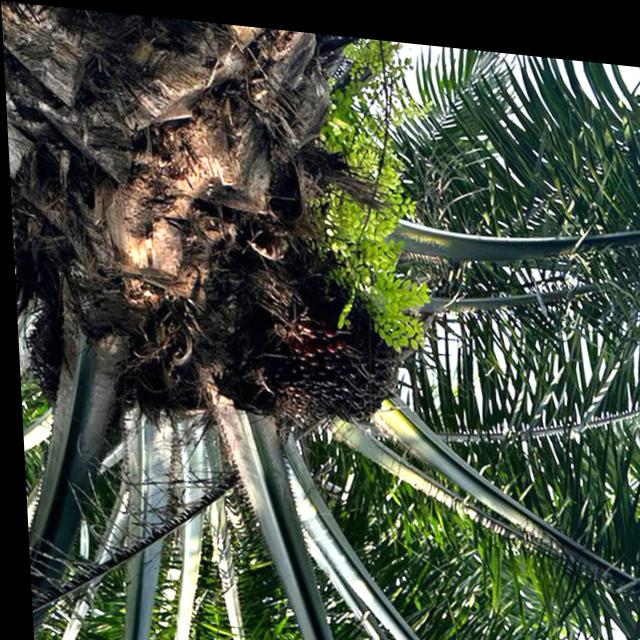unripe: (252, 269, 412, 433)
